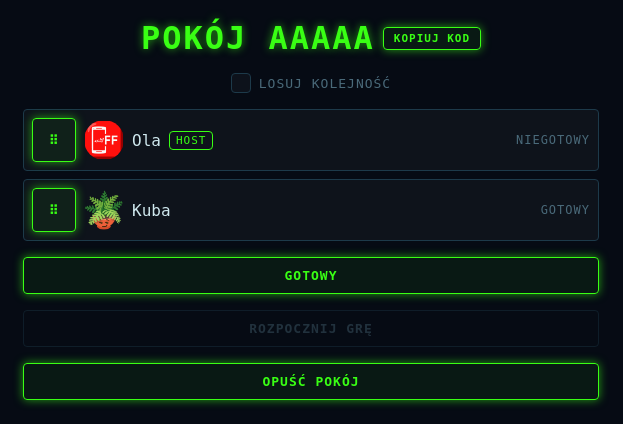
Scenario: RoomLobbyScreen › disables the drag handles when "Losuj kolejność" is checked
This screenshot has width=623, height=424.
Click the checkbox labelled "Losuj kolejność". click: click(241, 83)
box: [231,73,251,93]
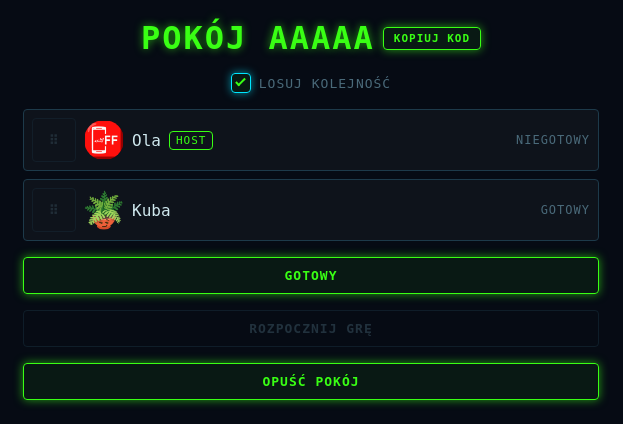
Expected: the button named "Zmień kolejność: Ola" is disabled, [32,118,76,162]
Expected: the button named "Zmień kolejność: Kuba" is disabled, [32,188,76,232]
